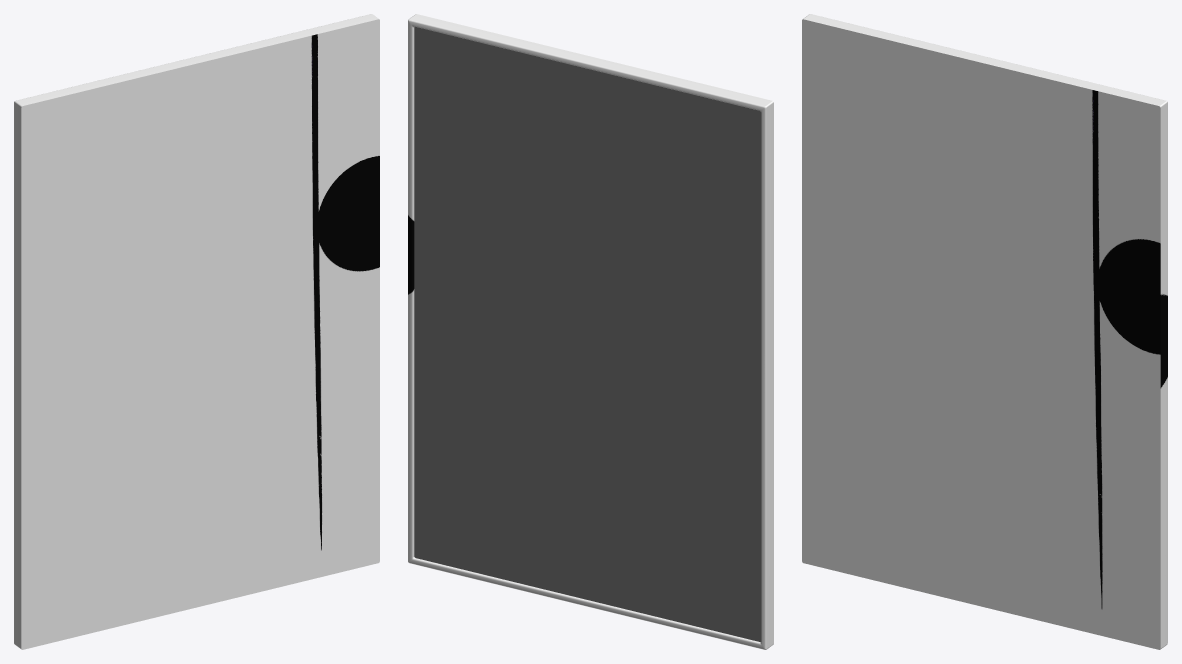
File: MSH_ETC_Poster1.fbx
3 renders of one model, left to right at view 1: azimuth 30°, elevation 25°; view 2: azimuth 150°, elevation 25°; view 3: azimuth 330°, elevation 25°, orthographic.
Visible parts, largest first — view 1: Frame_1; view 2: Glass, Frame_1; view 3: Frame_1.
Boxes of the visible parts, box(x1,y1,x2,y2) form: Frame_1: box(14, 14, 379, 649); Glass: box(414, 26, 761, 642); Frame_1: box(408, 14, 773, 649); Frame_1: box(802, 14, 1167, 649).
Size of the model in its own units: 63.14 by 91.52 by 2.43.
Materials: 3 (1 with a texture image).
